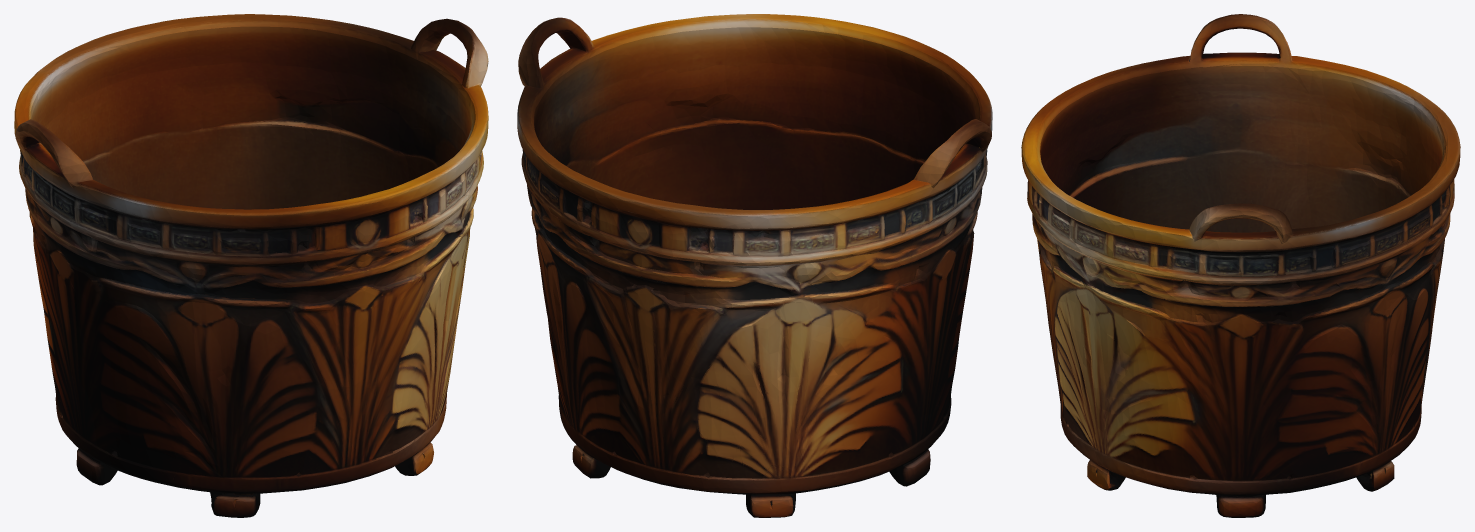
File: wooden-laundry-basket-art-deco.jpeg.glb
3 renders of one model, left to right at view 1: azimuth 30°, elevation 25°; view 2: azimuth 150°, elevation 25°; view 3: azimuth 270°, elevation 25°, orthographic. The views are drawn at different scales.
Visible parts, largest first — view 1: world; view 2: world; view 3: world.
Boxes of the visible parts, x1,y1,x2,y2 form: world: (14,14,488,517); world: (517,14,992,517); world: (1021,14,1460,517).
Bounding box in the file's own units: 0.9994 × 0.7995 × 0.9479.
Materials: 1 (1 with a texture image).
